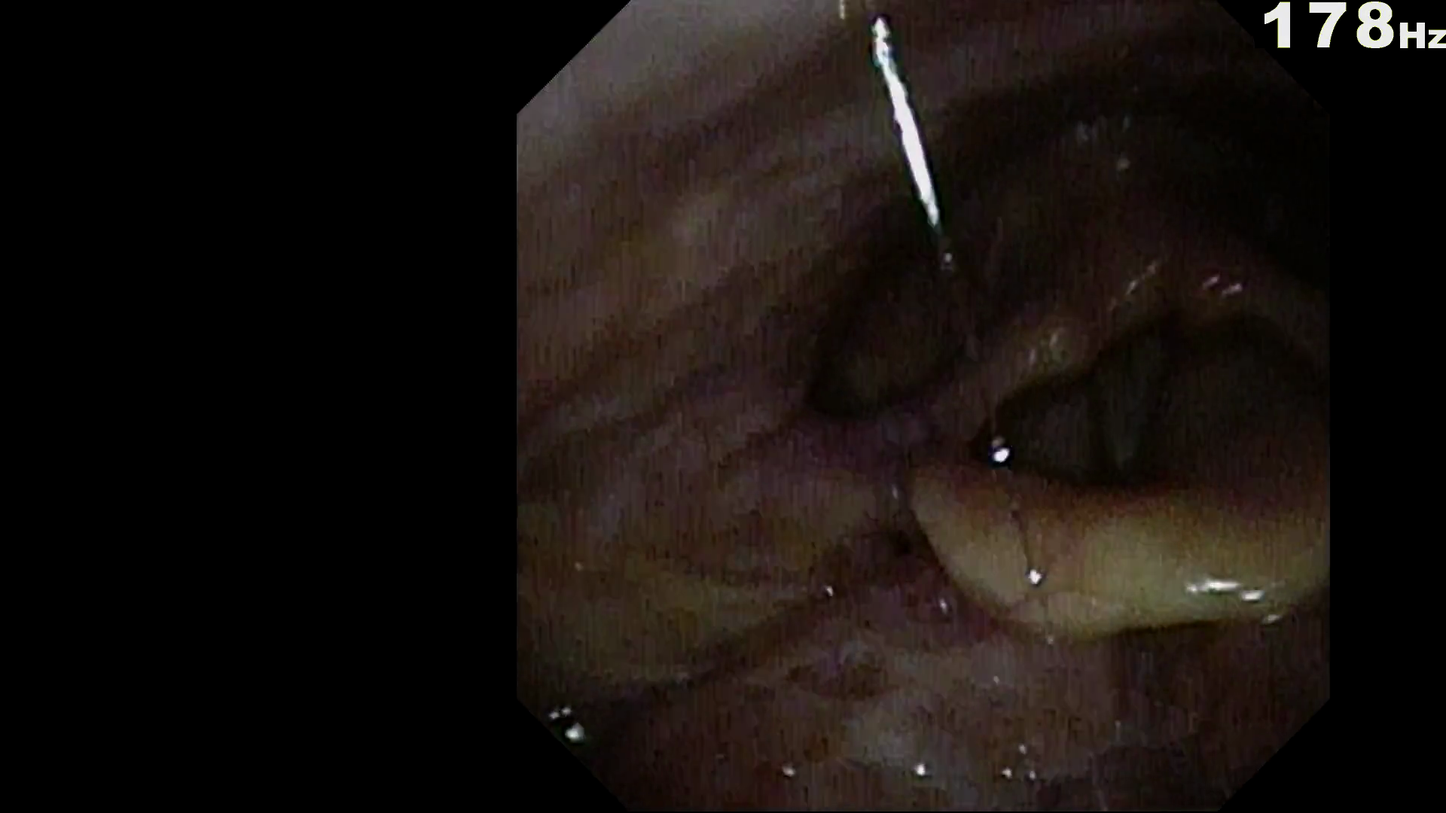epiglottis: (892, 456, 1317, 657)
trachea: (1058, 347, 1201, 499)
